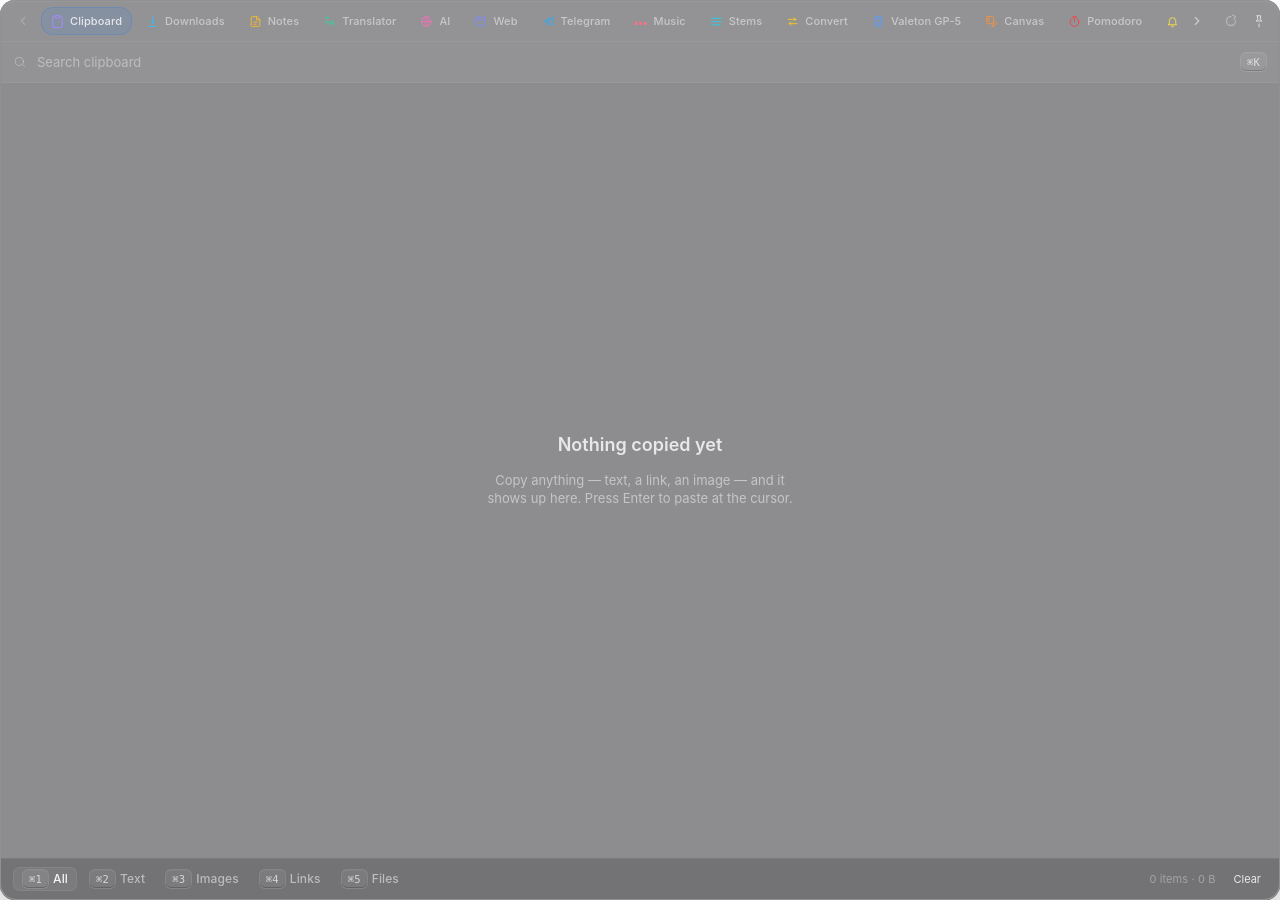
Test case: PopupShell — module visibility & order › reacts to live stash:settings-changed for hiddenModules
Check: the search field is shown, box [37,53,1230,71]
Check: the button "Pomodoro" is shown, box [1058,7,1152,35]
Click the element that starts with "Clipboard" at (640, 450), box [0,0,1279,899]
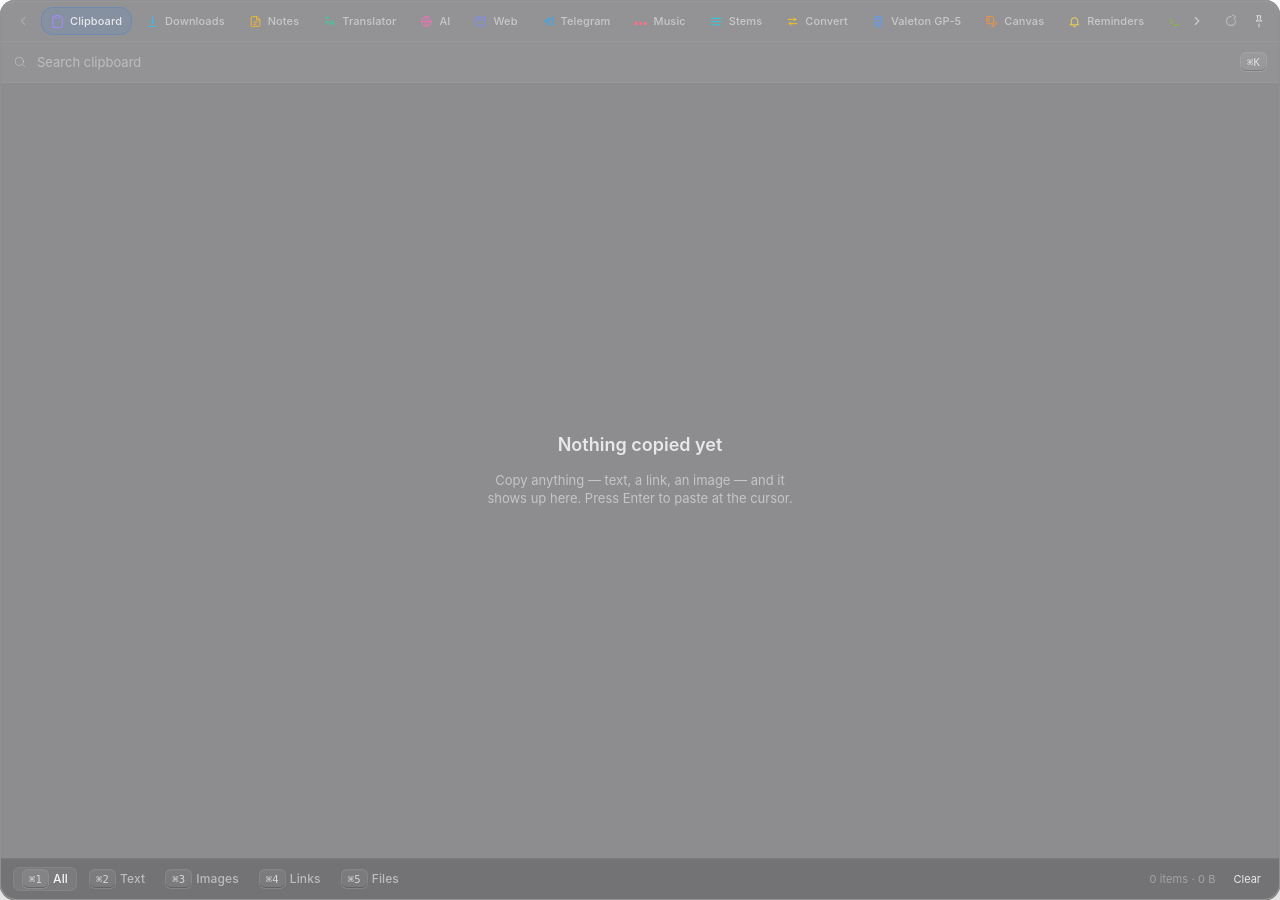
Check: the button "Pomodoro" is gone
